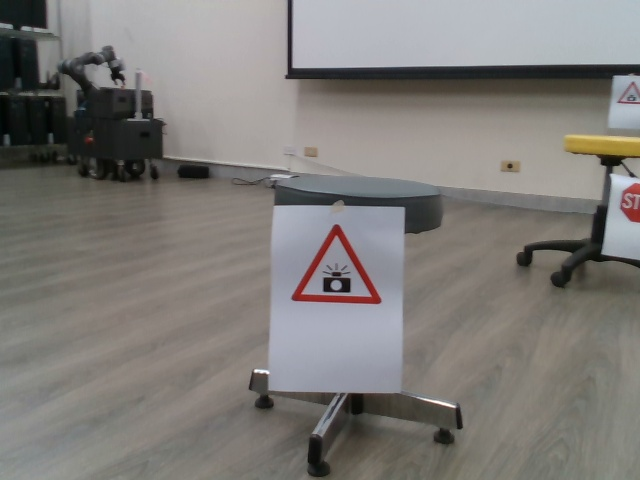camera: (291, 222, 383, 308)
